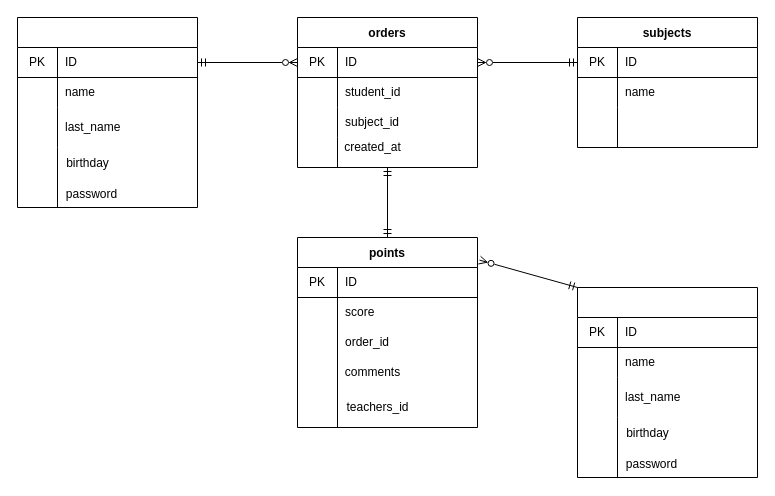
The diagram is 775 pixels wide and 496 high, and some of its shapes have lost their labels. Each missing label, with the box of its shape:
students: (16, 16, 198, 208)
Teachers: (576, 286, 758, 478)
